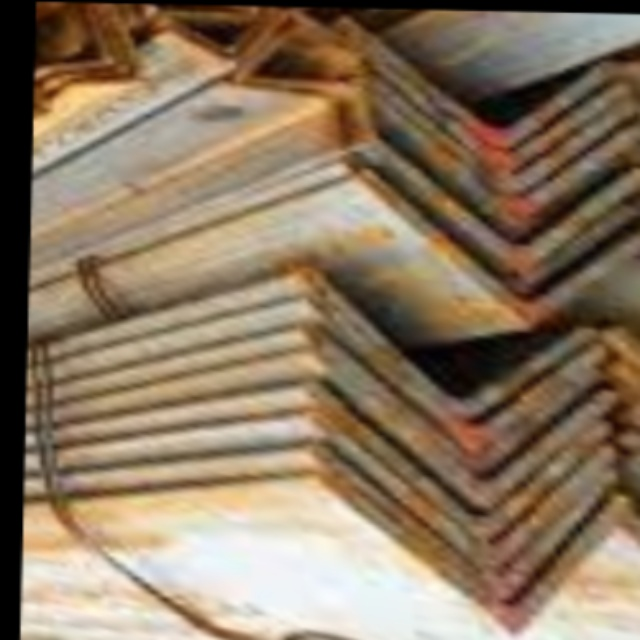Angle: (321, 463, 637, 640), (321, 433, 626, 609), (306, 413, 621, 579), (312, 387, 611, 544), (319, 363, 621, 513), (309, 306, 602, 452), (313, 332, 606, 475), (363, 179, 640, 327), (308, 277, 592, 421), (353, 160, 637, 296), (379, 148, 640, 267), (349, 24, 601, 142), (373, 79, 632, 192), (378, 107, 633, 221), (378, 61, 619, 163), (227, 82, 345, 146), (253, 78, 372, 136), (75, 3, 146, 88), (61, 2, 125, 80), (45, 3, 111, 72), (617, 332, 640, 470)
